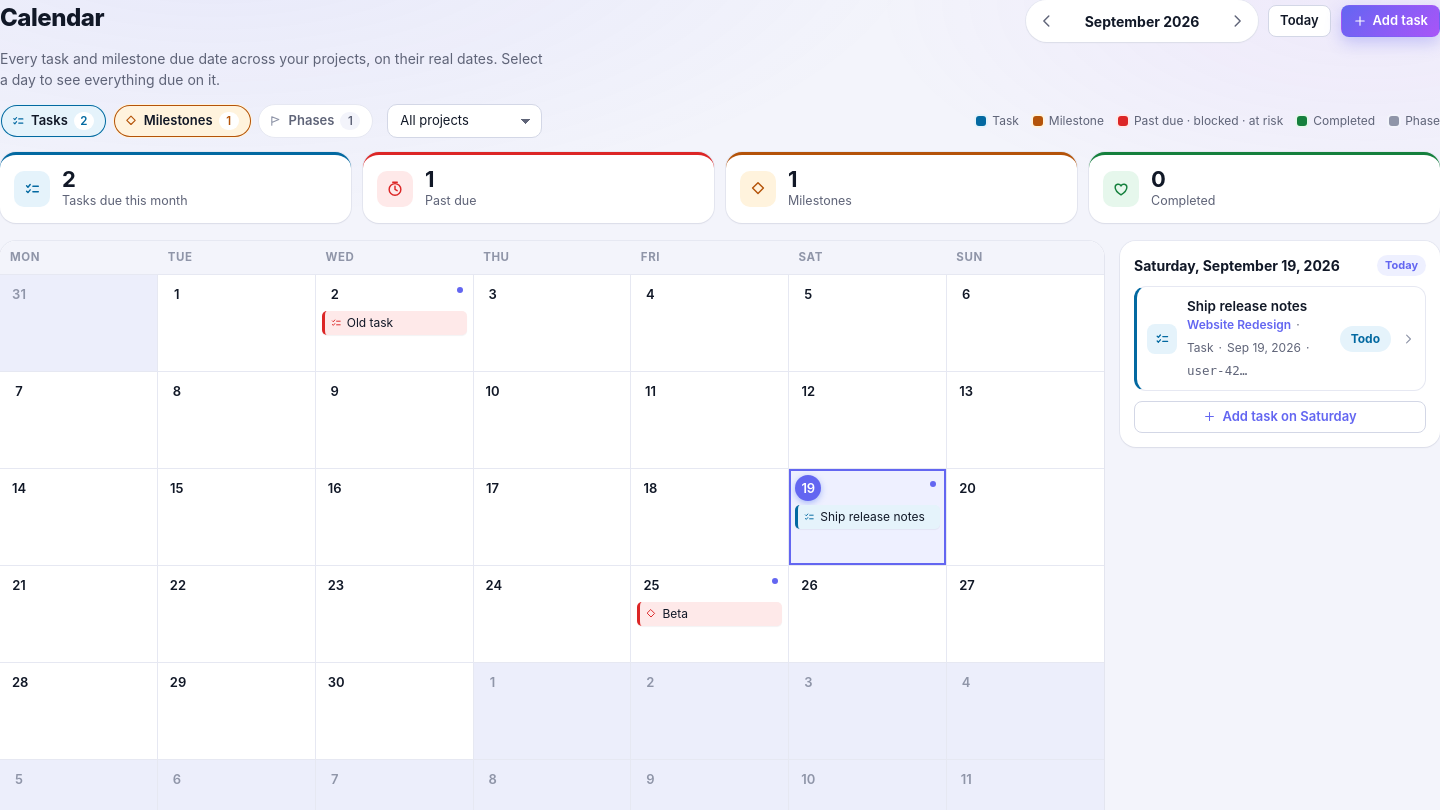
Test: WorkspaceCalendarPage › "Add task" on a day asks for a project first, then opens the task dialog pre-filled with that day
Click the 1st button "2" at (335, 294), box [322,281,348,307]
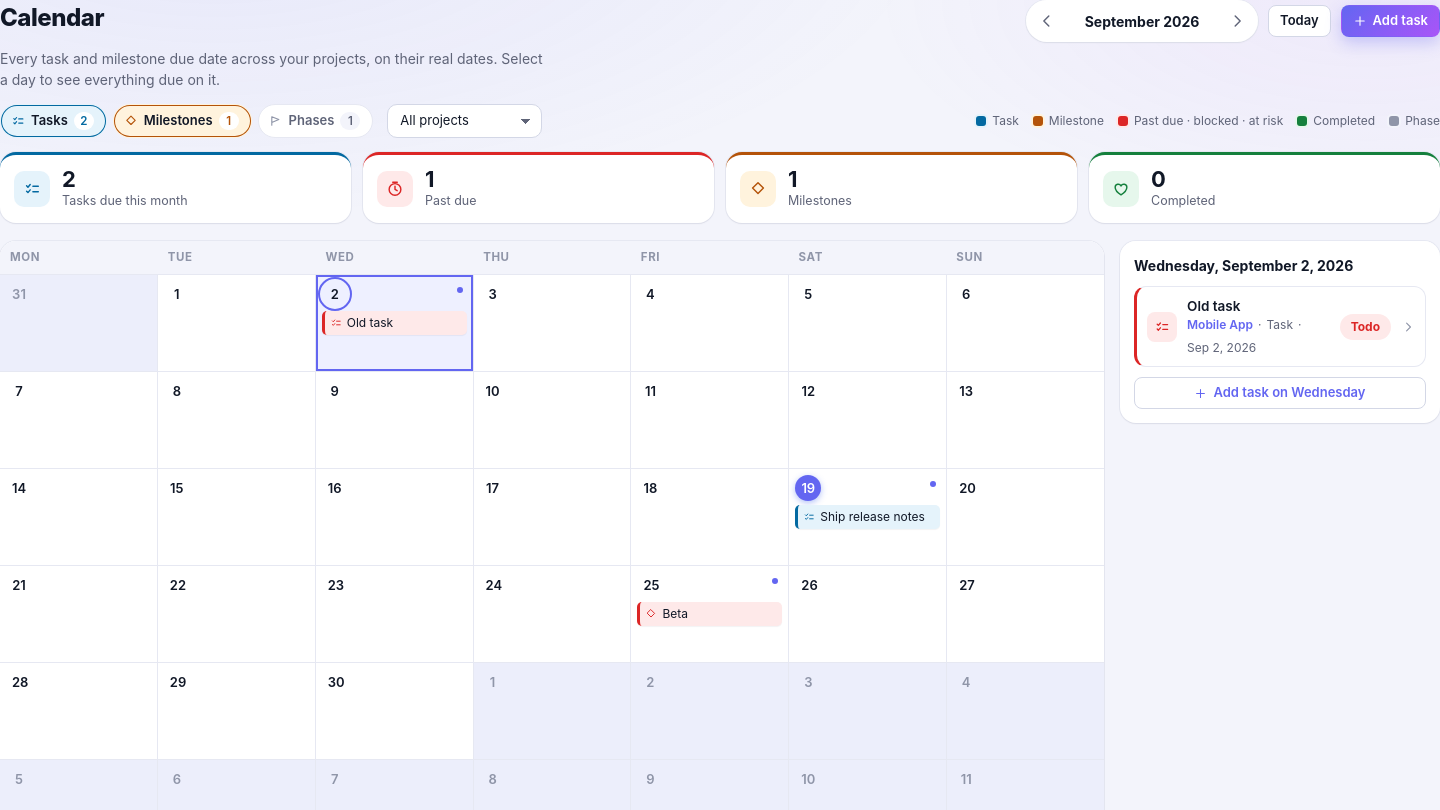
Result: the element named "Selected day" shows "Old task" at [1134,286,1426,367]
Click the button "Add task on Wednesday" at (1280, 393), box [1134,377,1426,409]
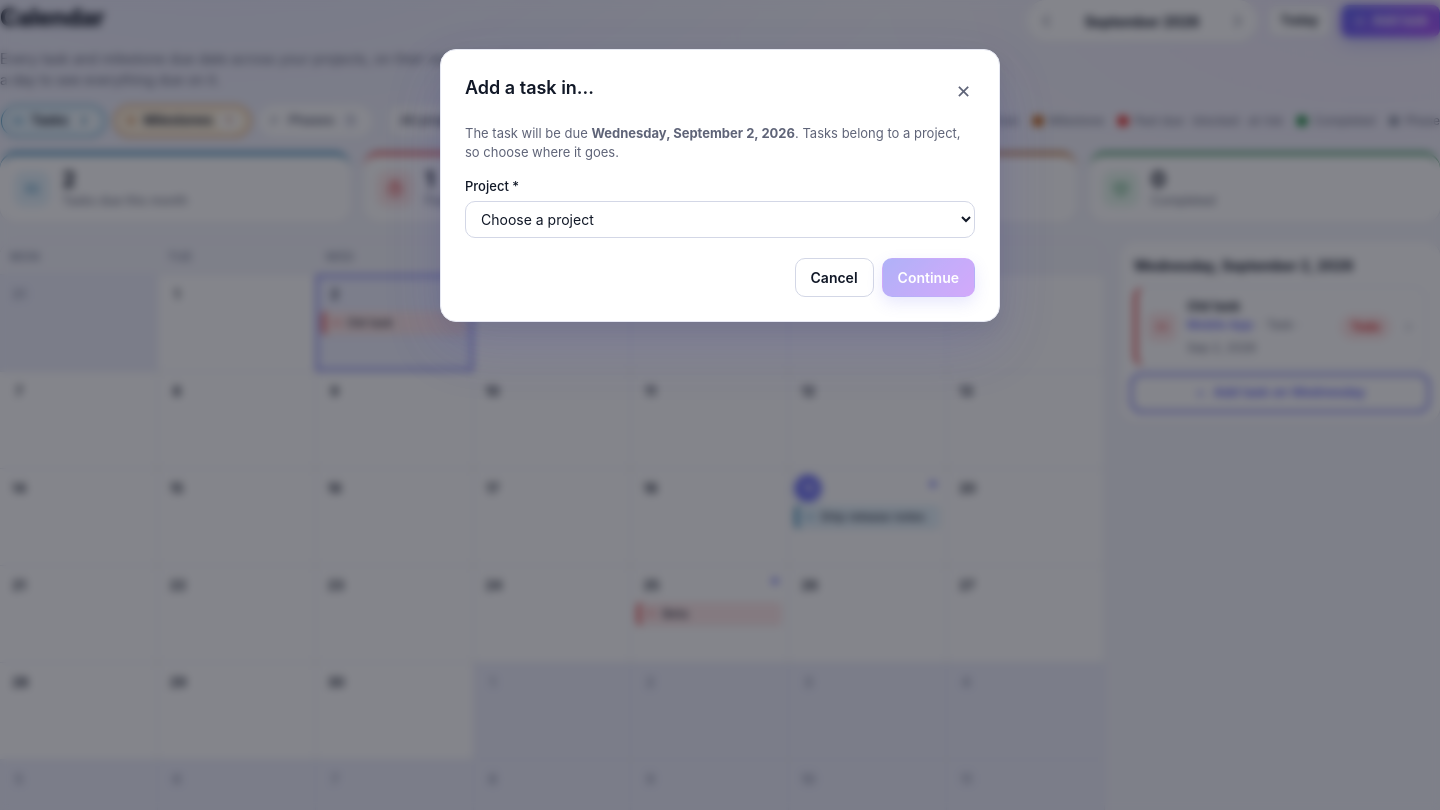
Result: the button "Continue" is disabled at [882,258,975,297]
Select "Website Redesign" in the dropdown labelled "Project *" at (720, 220), box [465,201,975,238]
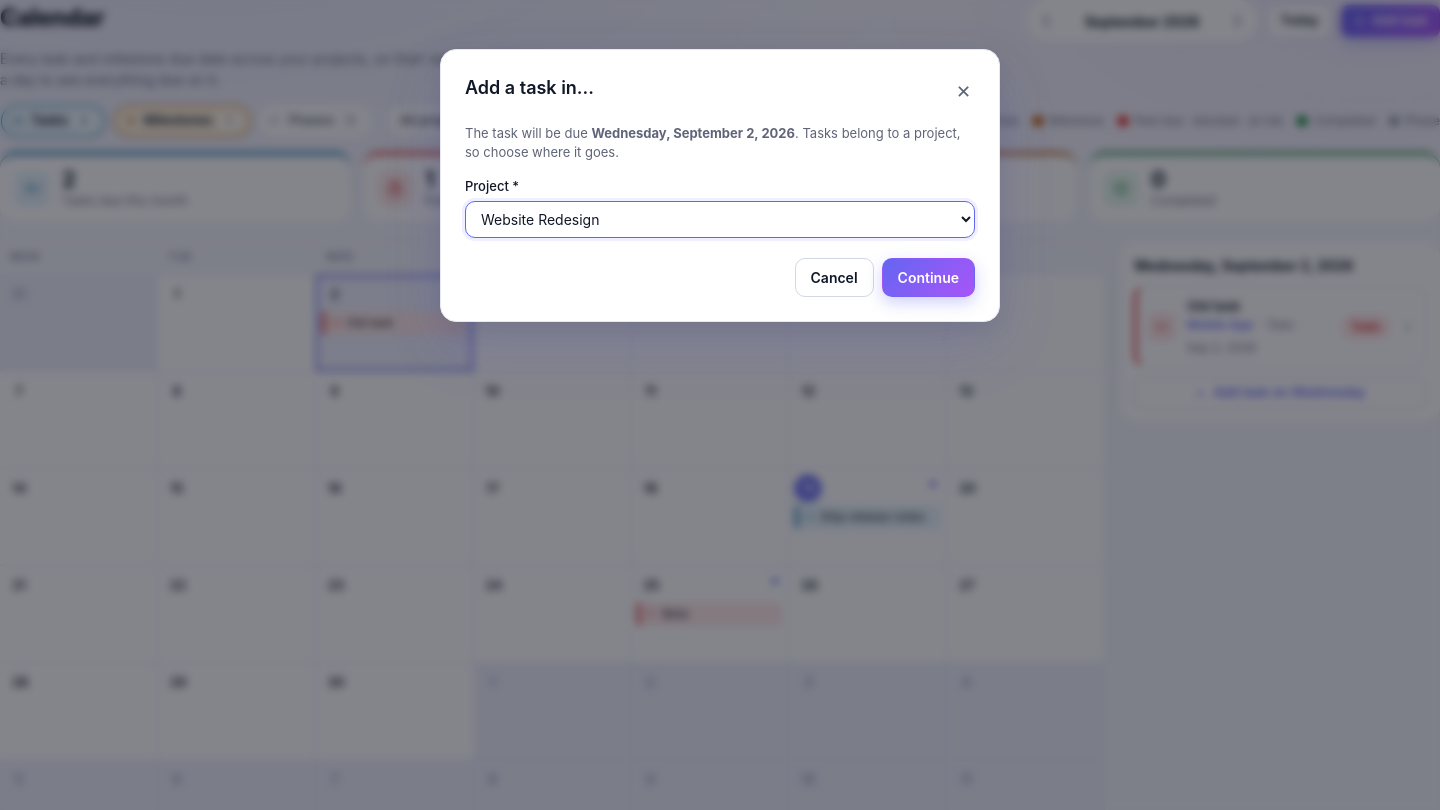
Click the button "Continue" at (928, 278), box [882,258,975,297]
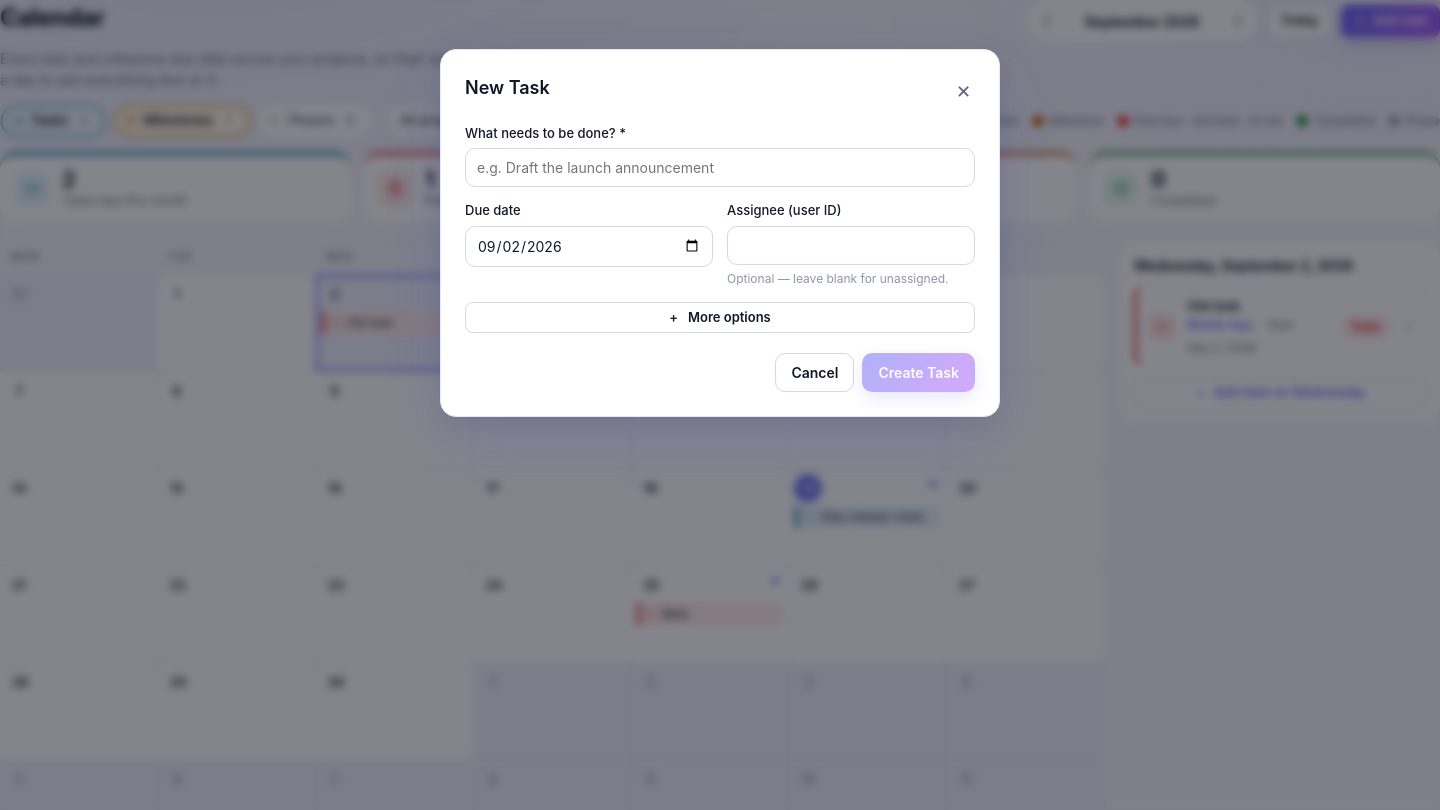
Result: the date field labelled "Due date" holds "2026-09-02" at [465,226,713,267]
